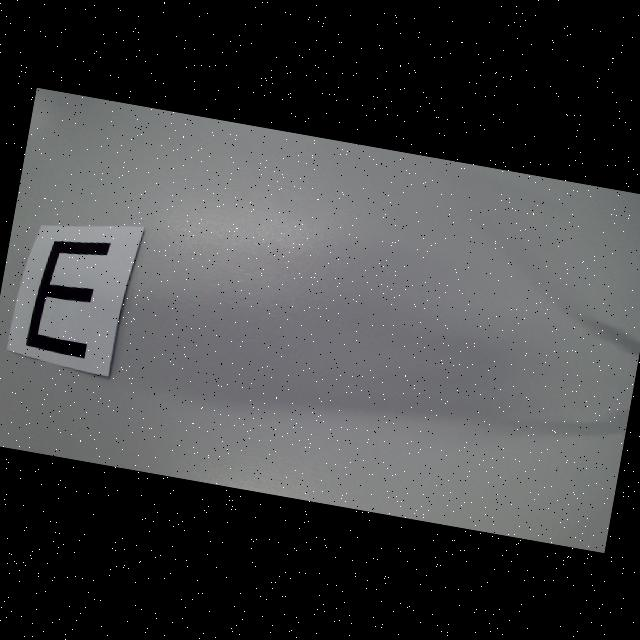FAKE: (24, 230, 110, 360)
